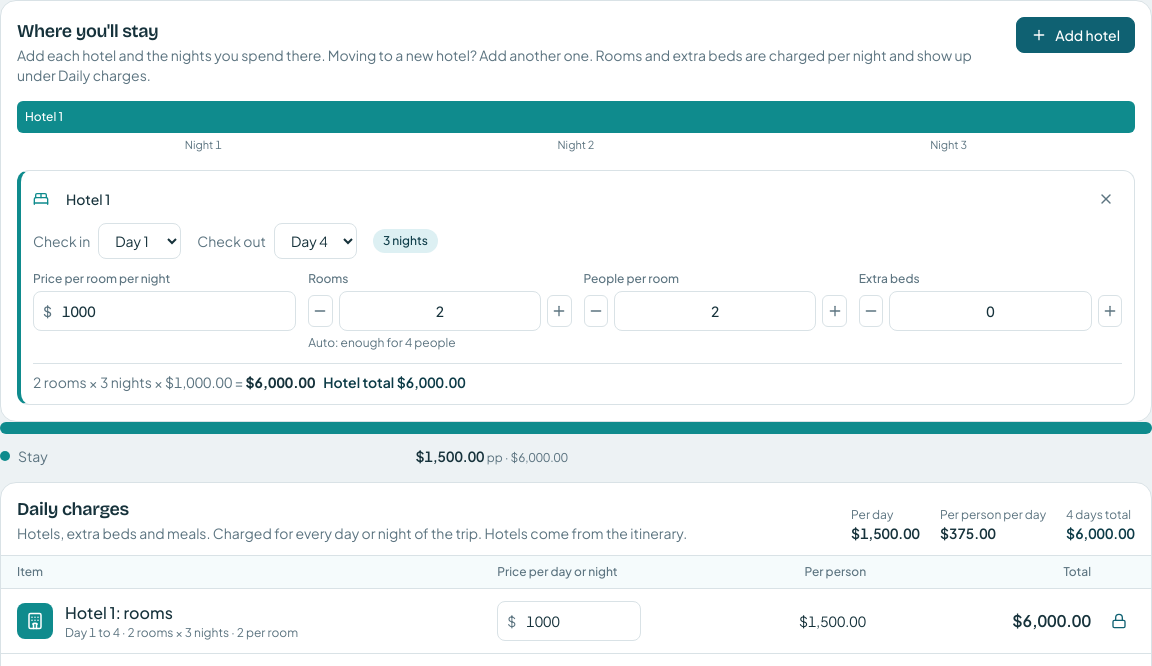
Scenario: Hotels and the Costs tab › removing a hotel in the itinerary removes its rows
Expected: the list item with test id "row-stay" is shown, [1,588,1151,654]
Click the button named "Remove Hotel 1" at {"x": 1106, "y": 198}, box [1090,182,1122,214]
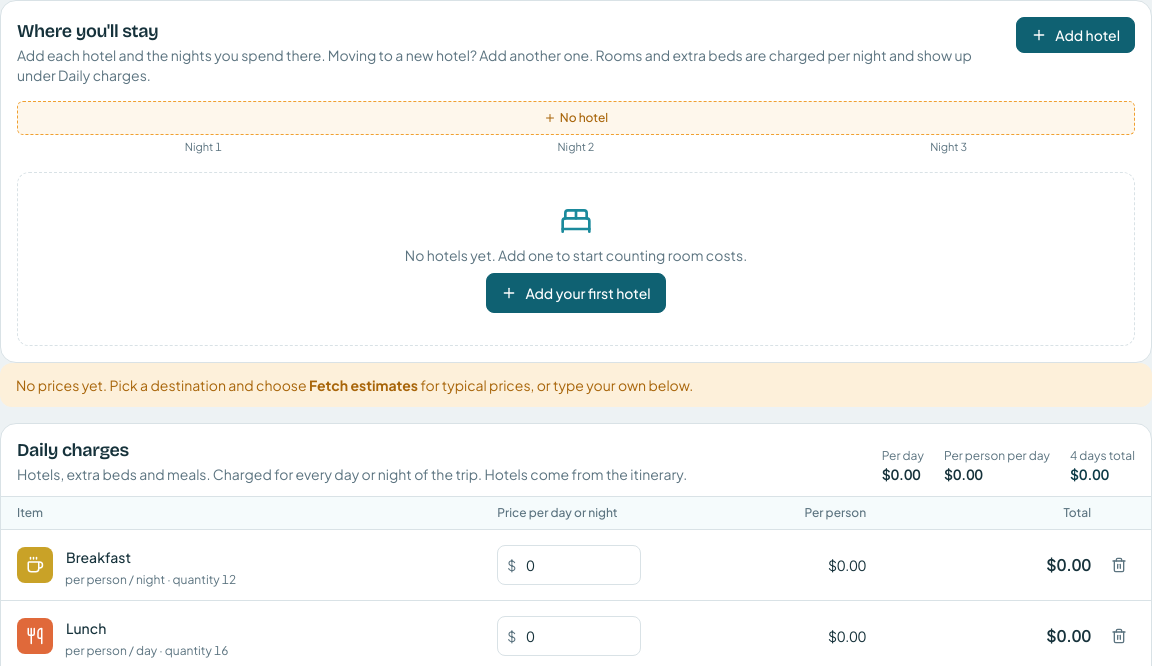
Expected: the list item with test id "row-stay" is gone
